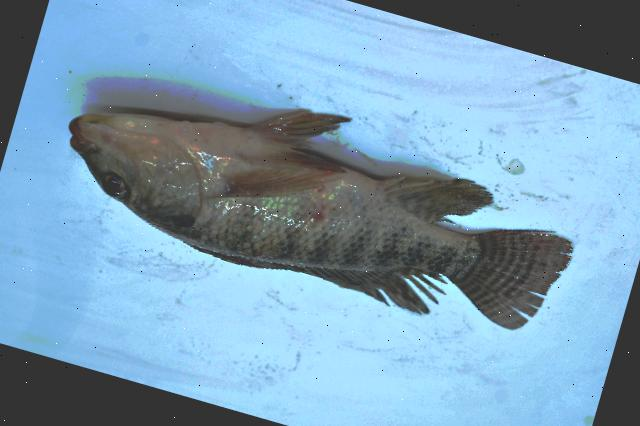Columnaris Disease: (69, 109, 571, 328)
